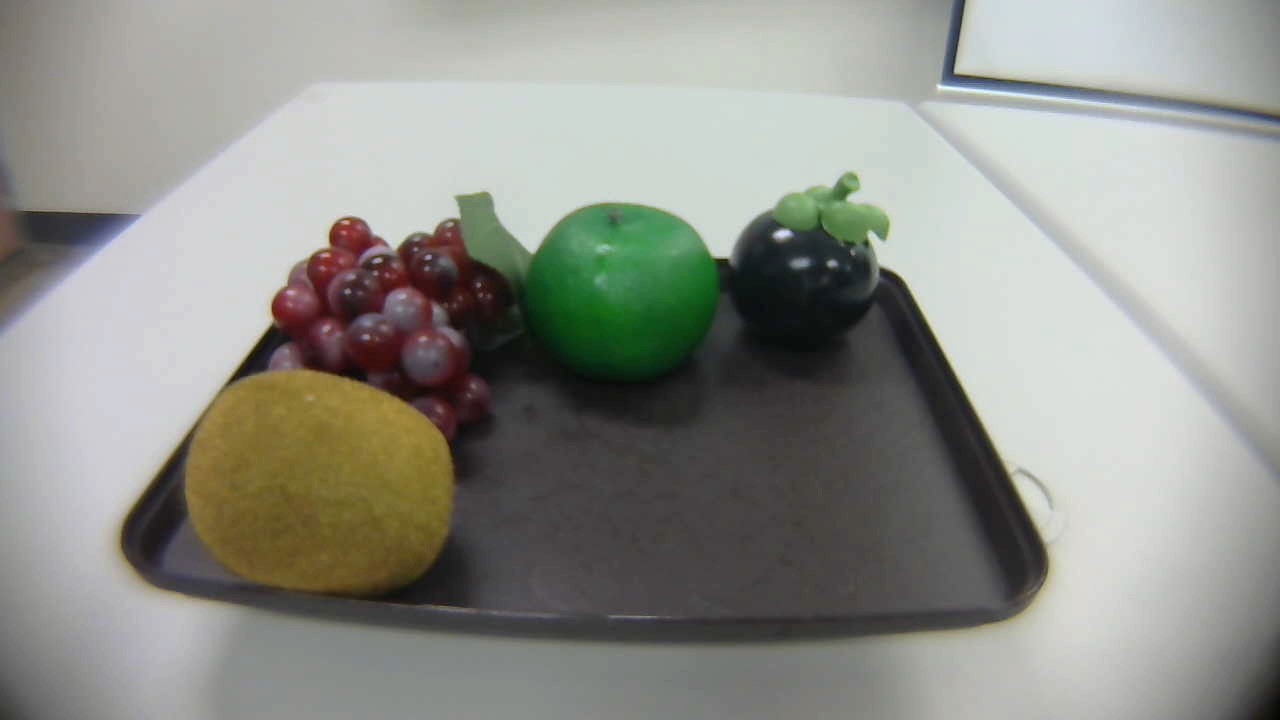grape: (250, 173, 542, 476)
green orange: (520, 201, 723, 394)
kiwi fruit: (175, 363, 472, 601)
mangosteen: (725, 163, 897, 352)
